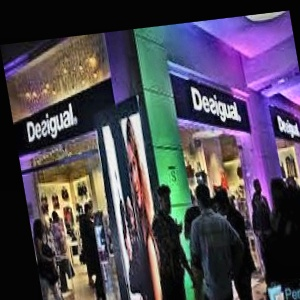desigual: (23, 91, 300, 218), (122, 69, 300, 148), (48, 95, 121, 166)
